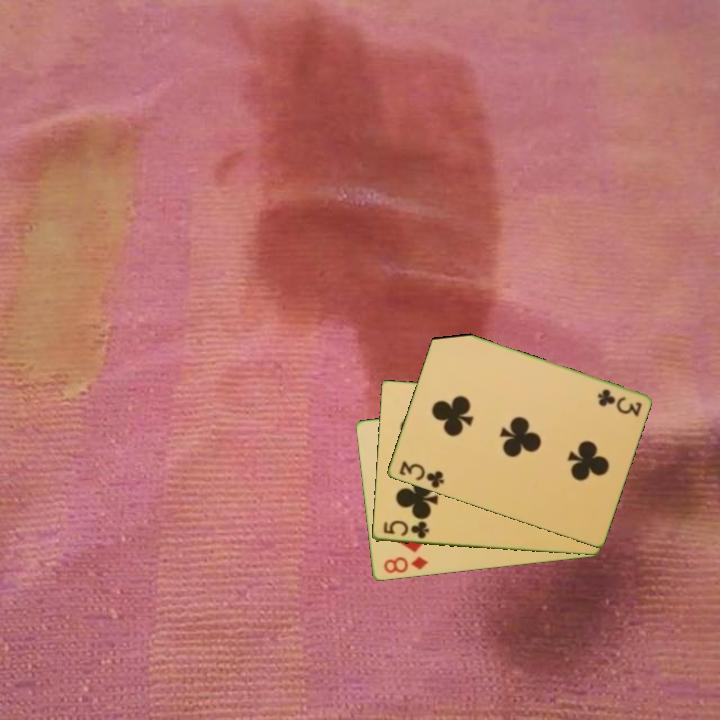3c: (395, 457, 447, 491), (594, 385, 644, 419)
5c: (379, 517, 431, 542)
8d: (380, 553, 430, 577)
